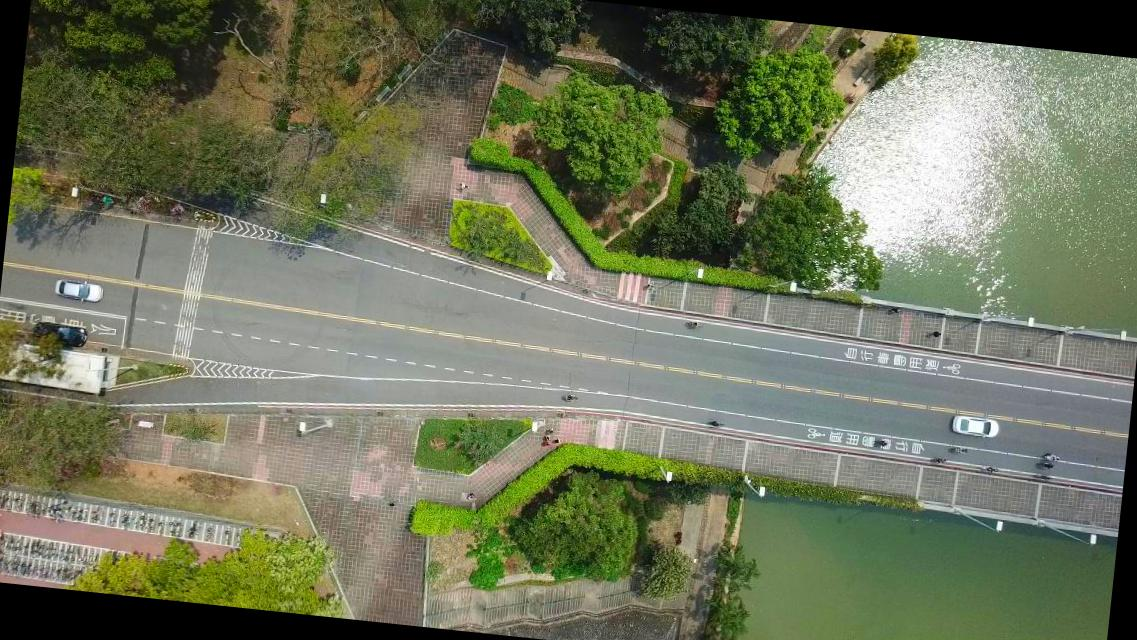vehicle: (31, 320, 88, 348), (54, 276, 104, 304), (950, 414, 999, 439)
